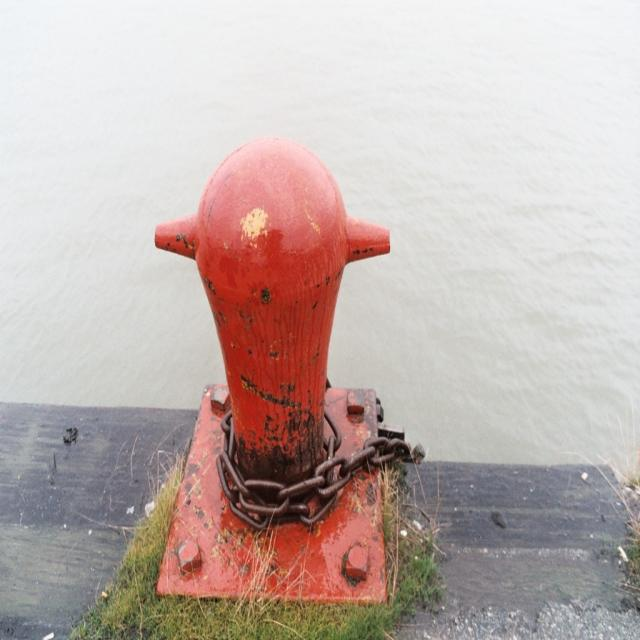fire_hydrant: (154, 137, 428, 604)
